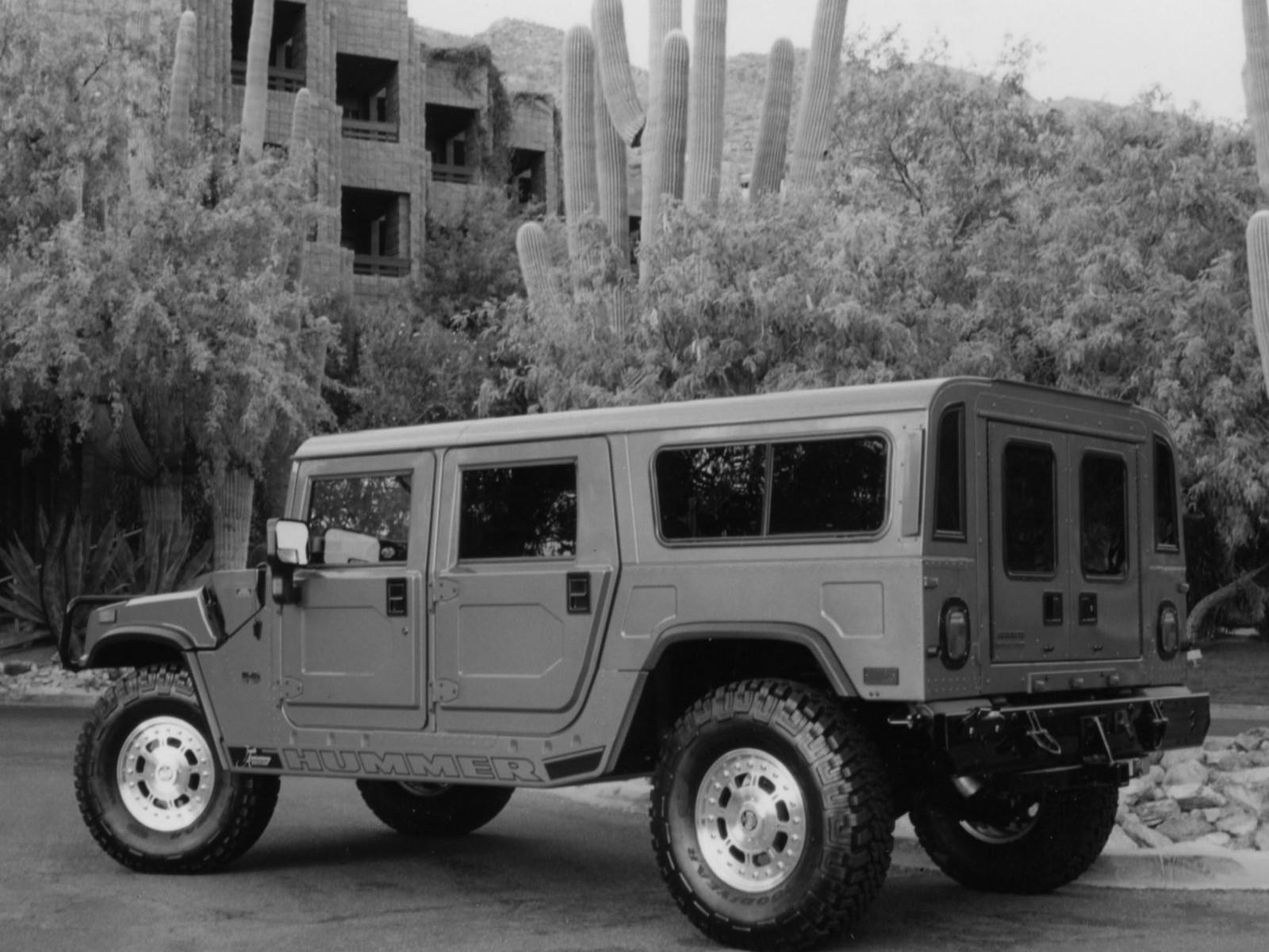car: (63, 372, 1219, 950)
